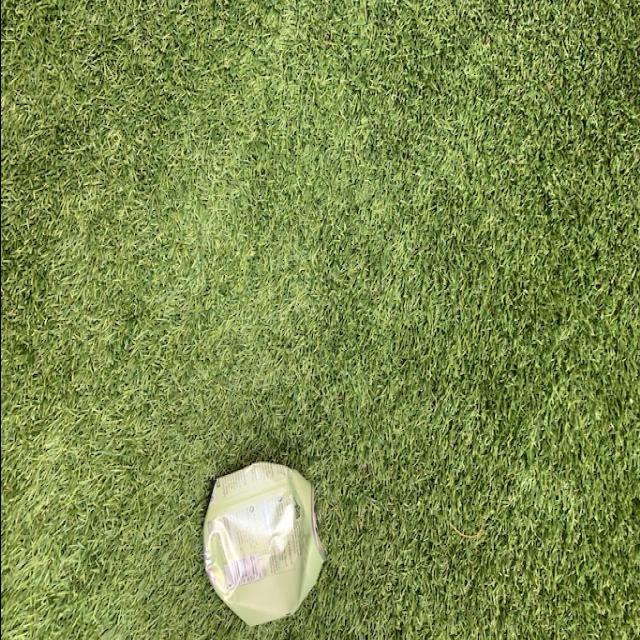litter: (195, 458, 325, 628)
